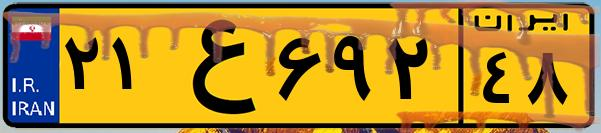1: (110, 28, 158, 98)
2: (385, 28, 445, 110), (57, 26, 110, 100)
4: (475, 38, 525, 113)
6: (270, 28, 330, 110)
8: (525, 38, 570, 115)
9: (330, 28, 385, 110)
ع: (158, 12, 270, 120)
